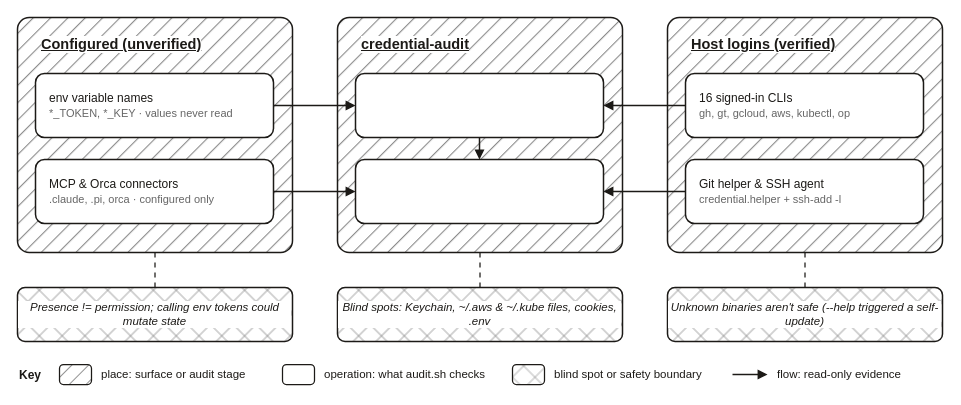
Some shapes in this 961 by 405 pixel diagram are drawn without their labels. The centre of each missing label's shape, as x and y in pixels:
"4-table access report identity, auth method, verified vs. not" goes at point 479,191.
"audit.sh read-only probe whitelisted verbs · zero API calls" goes at point 479,105.
